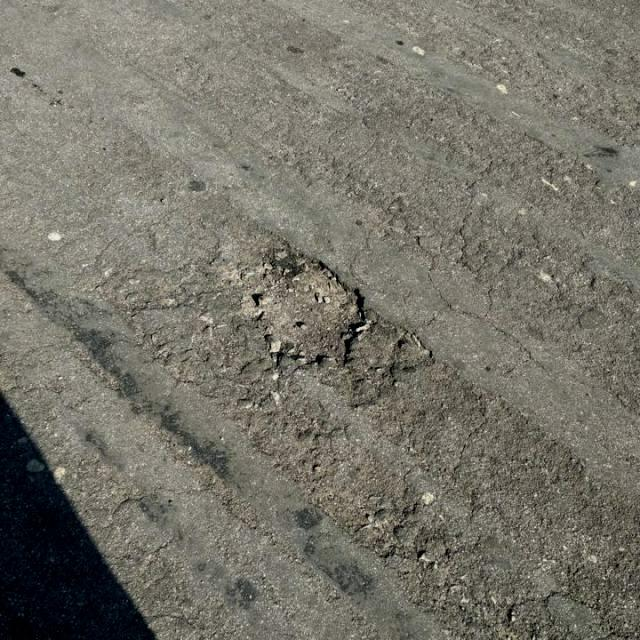Pothole: (231, 247, 375, 373)
